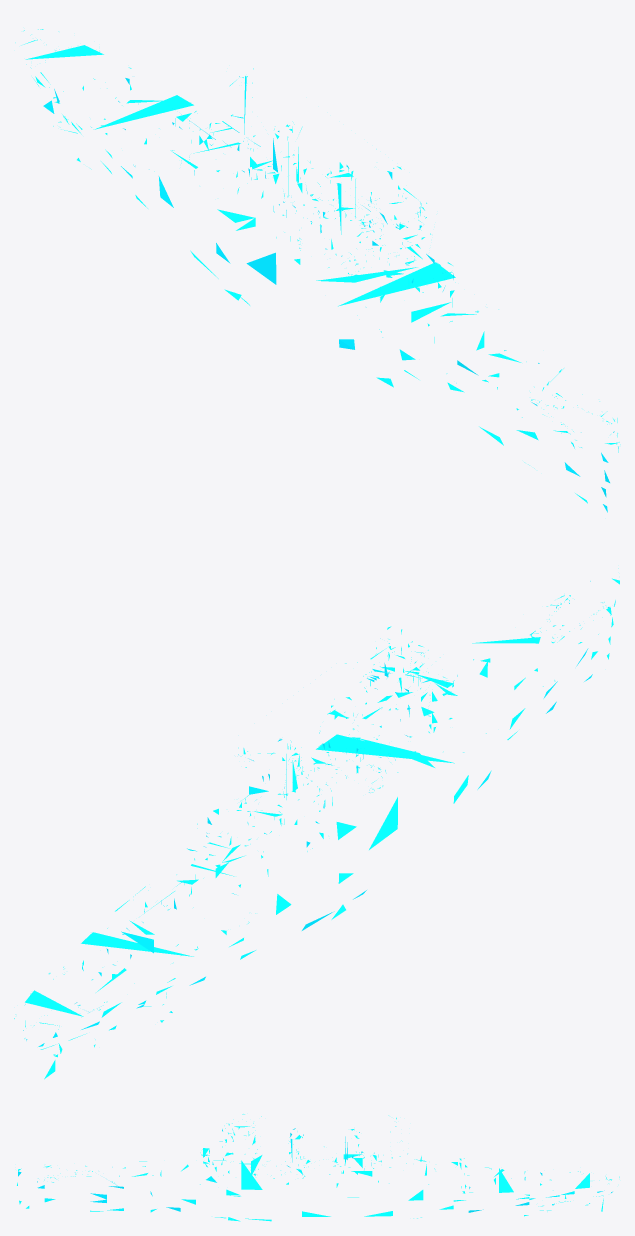
Rendered from Carnot.glb.
3 views of the same model, one above another, from view 1: azimuth 30°, elevation 25°; view 2: azimuth 150°, elevation 25°; view 3: azimuth 270°, elevation 25° (orthographic). The views are drawn at different scales.
Size of the model in its own units: 2.03 by 3.18 by 17.
